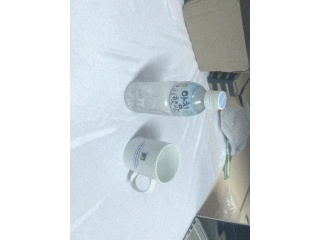bottle: (124, 81, 226, 118)
box: (184, 1, 249, 72)
cup: (123, 137, 181, 194)
